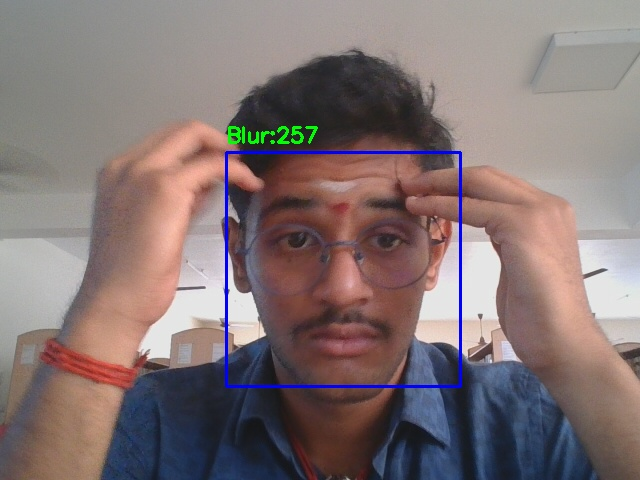real: (226, 152, 460, 386)
